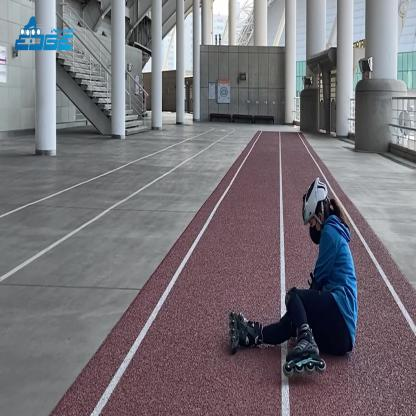Fall_Down: (236, 188, 361, 362)
